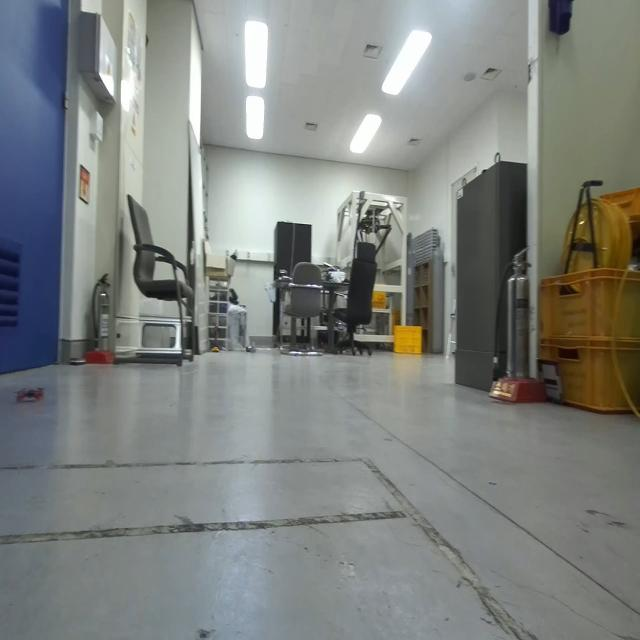crazyflie: (17, 381, 45, 406)
